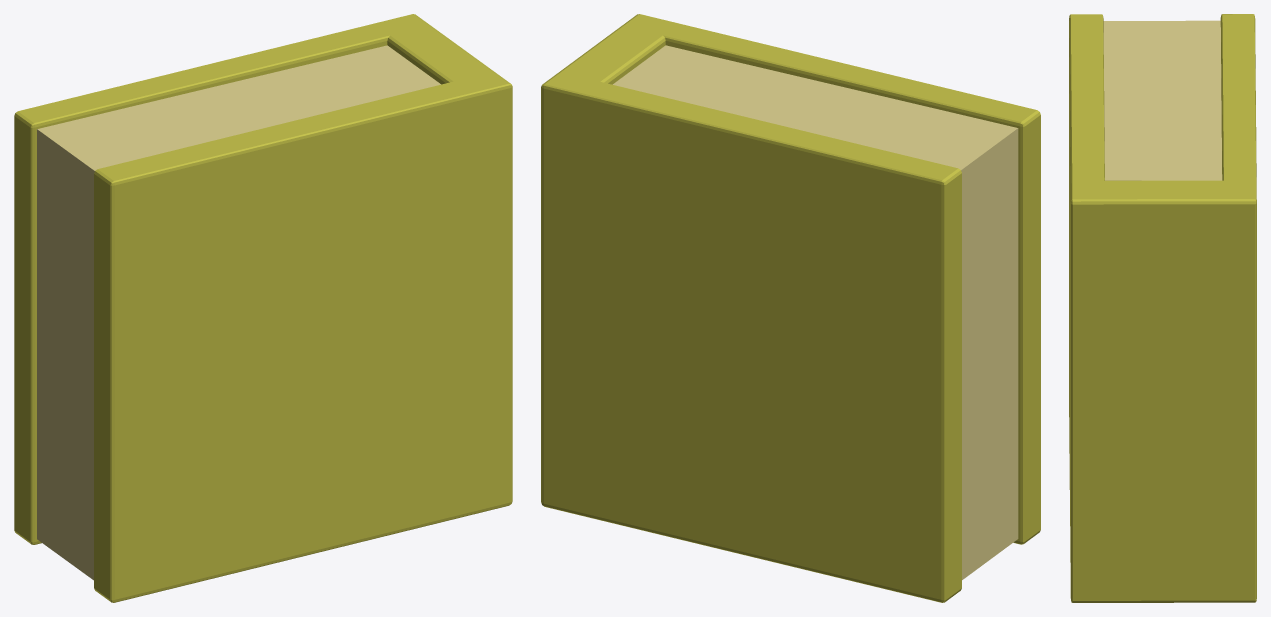
Rendered from bookMain.glb.
The picture shows the model from 3 angles, left to right: view 1: azimuth 30°, elevation 25°; view 2: azimuth 150°, elevation 25°; view 3: azimuth 270°, elevation 25°; orthographic projection. The views are drawn at different scales.
Parts seen in each view (by area): view 1: mainBook; view 2: mainBook; view 3: mainBook.
Boxes of the visible parts, x1,y1,x2,y2 form: mainBook: (14, 14, 512, 602); mainBook: (541, 14, 1040, 602); mainBook: (1069, 14, 1256, 602).
Bounding box in the file's own units: 0.472 × 0.4712 × 0.1986.
